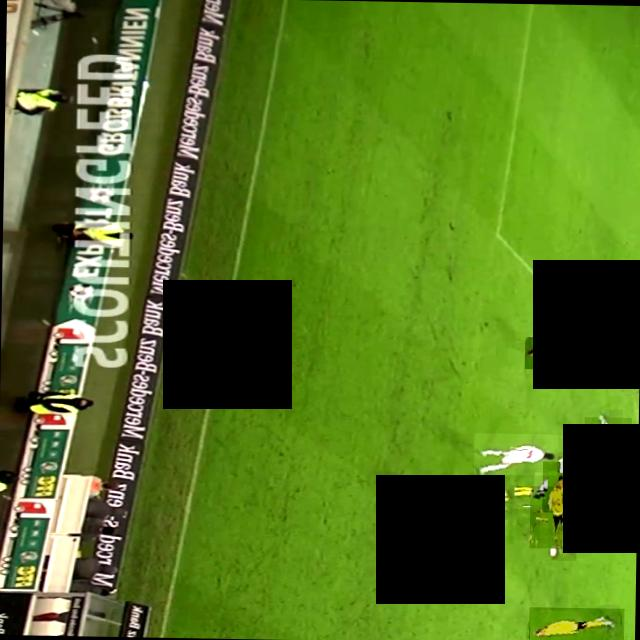ball: (508, 508, 539, 540)
soccer-player: (418, 478, 514, 524), (528, 486, 593, 548), (472, 433, 556, 475), (527, 606, 623, 640), (573, 287, 640, 330), (540, 461, 594, 513), (523, 336, 595, 369), (582, 416, 630, 464), (616, 484, 638, 516)
